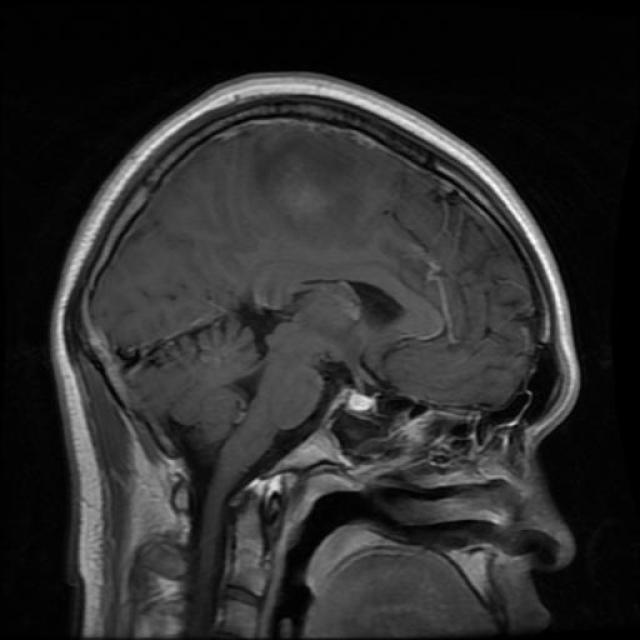glioma: (222, 145, 367, 267)
